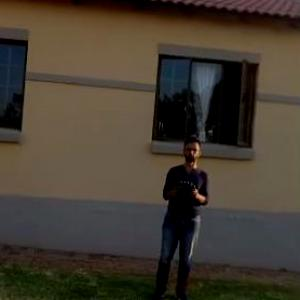follow: (148, 133, 211, 299)
